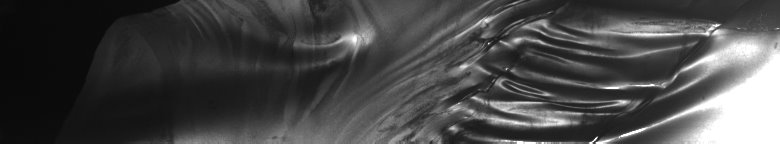ke: (294, 4, 726, 136)
